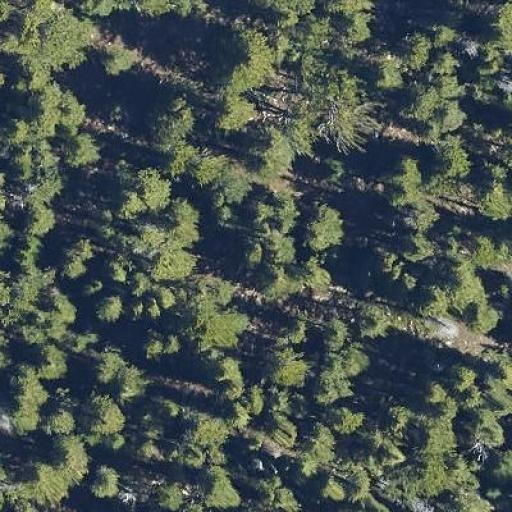tree-top: (120, 189, 212, 282), (301, 64, 373, 152), (19, 0, 98, 74), (212, 16, 279, 92), (304, 378, 358, 460), (79, 401, 129, 486), (189, 289, 253, 354), (141, 92, 201, 154), (1, 366, 53, 433), (306, 349, 364, 406), (383, 149, 435, 212), (263, 338, 319, 393), (300, 198, 352, 257), (248, 122, 302, 178), (125, 164, 176, 217), (182, 404, 236, 452), (404, 456, 476, 492), (61, 126, 110, 176), (54, 232, 100, 284), (82, 391, 130, 440), (95, 30, 144, 78), (366, 46, 412, 96), (32, 87, 82, 130), (15, 454, 58, 504), (164, 196, 205, 248), (210, 88, 256, 134), (414, 414, 462, 458), (434, 314, 484, 356), (467, 228, 512, 274), (201, 464, 244, 509), (302, 418, 341, 466), (442, 260, 481, 308), (49, 432, 90, 476), (467, 65, 503, 114), (210, 358, 246, 407), (256, 0, 324, 25), (484, 0, 512, 59), (480, 175, 512, 226), (266, 226, 305, 266), (238, 230, 280, 267), (34, 342, 72, 382), (8, 257, 39, 306), (302, 258, 338, 300), (86, 463, 122, 504), (433, 139, 467, 182), (264, 480, 308, 512), (472, 409, 507, 449), (42, 289, 74, 331), (89, 346, 122, 386), (406, 79, 438, 120), (93, 288, 128, 324), (332, 403, 368, 438), (446, 360, 480, 397), (185, 153, 222, 187), (213, 172, 250, 206), (255, 193, 293, 226), (44, 402, 80, 436), (139, 328, 177, 360), (116, 359, 147, 398), (472, 304, 506, 339), (25, 202, 61, 235), (144, 476, 178, 510), (416, 377, 446, 414), (337, 15, 370, 47), (380, 440, 412, 473), (418, 279, 447, 315), (8, 151, 37, 187), (154, 392, 186, 424), (151, 281, 183, 313), (361, 304, 392, 337), (6, 114, 40, 144), (126, 0, 172, 22), (428, 46, 459, 78), (382, 399, 410, 434), (319, 472, 351, 502), (14, 326, 49, 353), (132, 438, 164, 466), (401, 235, 431, 264), (374, 248, 402, 279), (319, 318, 347, 348), (325, 0, 371, 18), (433, 97, 460, 127), (487, 448, 512, 478), (128, 272, 152, 302), (0, 208, 17, 250), (489, 391, 512, 419), (0, 30, 21, 56)
